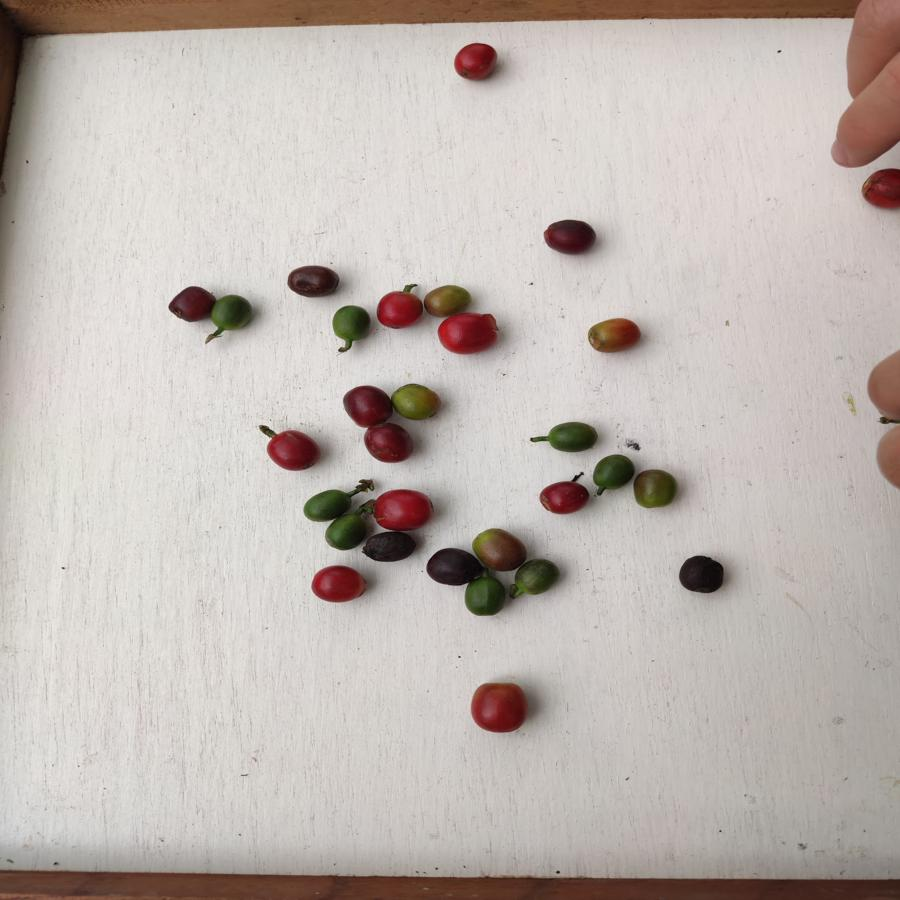Inmaduro: (547, 421, 599, 455), (464, 576, 506, 616), (324, 511, 366, 549), (303, 489, 351, 522), (515, 560, 561, 594), (211, 295, 253, 331), (591, 454, 633, 489), (333, 306, 371, 341)
Maduro: (471, 681, 530, 732), (371, 489, 435, 531), (265, 429, 323, 472), (437, 314, 499, 354), (311, 566, 369, 604), (375, 291, 424, 330), (453, 41, 498, 81), (539, 481, 591, 515), (861, 167, 900, 212)
Pinton: (469, 528, 529, 569), (390, 382, 443, 421), (631, 466, 679, 509), (586, 317, 641, 354), (423, 286, 474, 315)
Sobremaduro: (423, 547, 481, 587), (341, 384, 393, 426), (677, 554, 727, 596), (543, 218, 598, 256), (364, 424, 414, 464), (285, 264, 340, 300), (361, 532, 419, 563), (167, 284, 210, 325)
